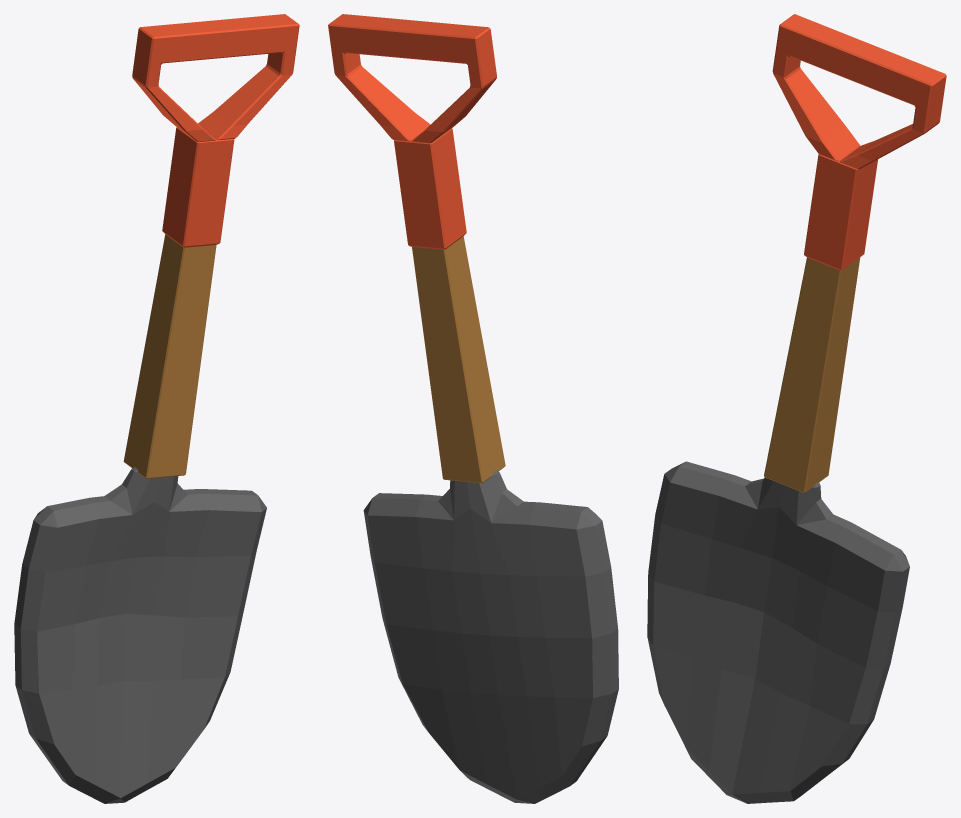
Rendered from Shovel.fbx.
3 renders of one model, left to right at view 1: azimuth 30°, elevation 25°; view 2: azimuth 150°, elevation 25°; view 3: azimuth 330°, elevation 25°, orthographic. The views are drawn at different scales.
Parts seen in each view (by area): view 1: Cube.002, Cube.001, Cube, Cube.006; view 2: Cube.002, Cube.001, Cube, Cube.006; view 3: Cube.002, Cube.001, Cube, Cube.006.
Part boxes in pixels (x1,y1,x2,y2): Cube.002: (14, 467, 266, 803); Cube.001: (123, 234, 216, 478); Cube: (132, 14, 299, 141); Cube.006: (162, 127, 234, 247); Cube.002: (363, 470, 618, 803); Cube.001: (412, 236, 505, 483); Cube: (328, 14, 496, 143); Cube.006: (394, 128, 466, 249); Cube.002: (647, 461, 909, 803); Cube.001: (764, 257, 860, 492); Cube: (772, 14, 946, 169); Cube.006: (804, 145, 877, 270).
Size of the model in its own units: 319 by 835 by 59.48.
